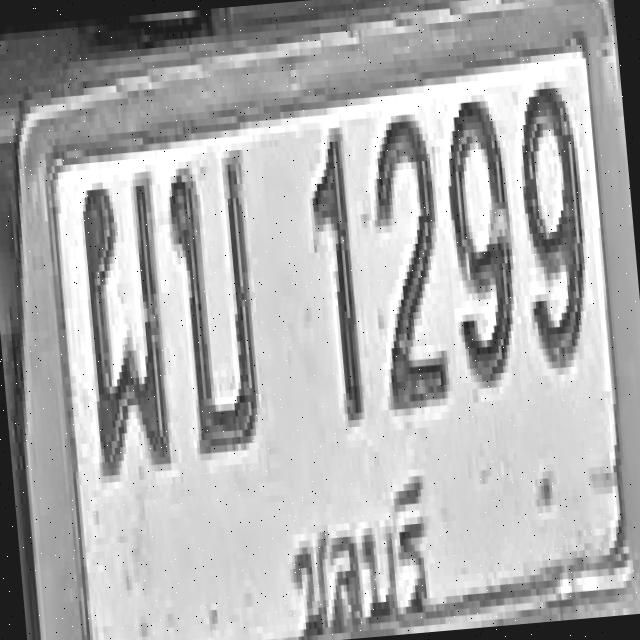1: (304, 126, 366, 422)
2: (366, 109, 450, 406)
35BorBaiMai: (163, 150, 265, 454)
37PhorPhueng: (74, 175, 174, 472)
9: (439, 92, 522, 382), (512, 80, 594, 370)
Chonburi: (276, 469, 439, 640)
